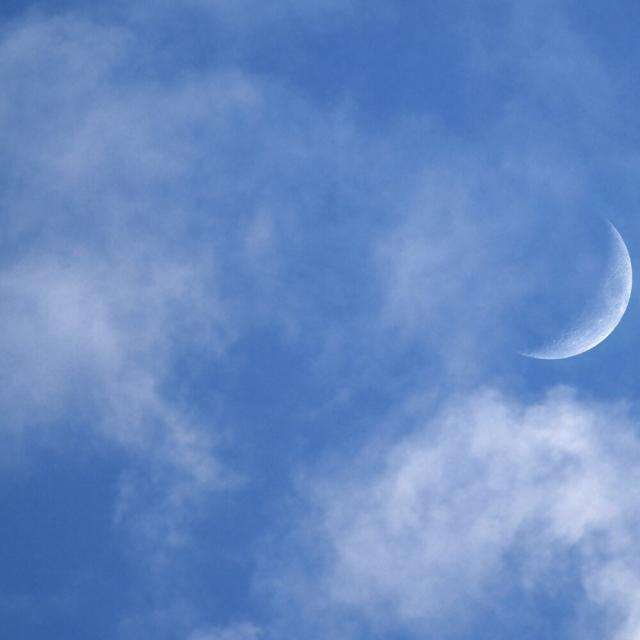moon: (505, 206, 640, 366)
